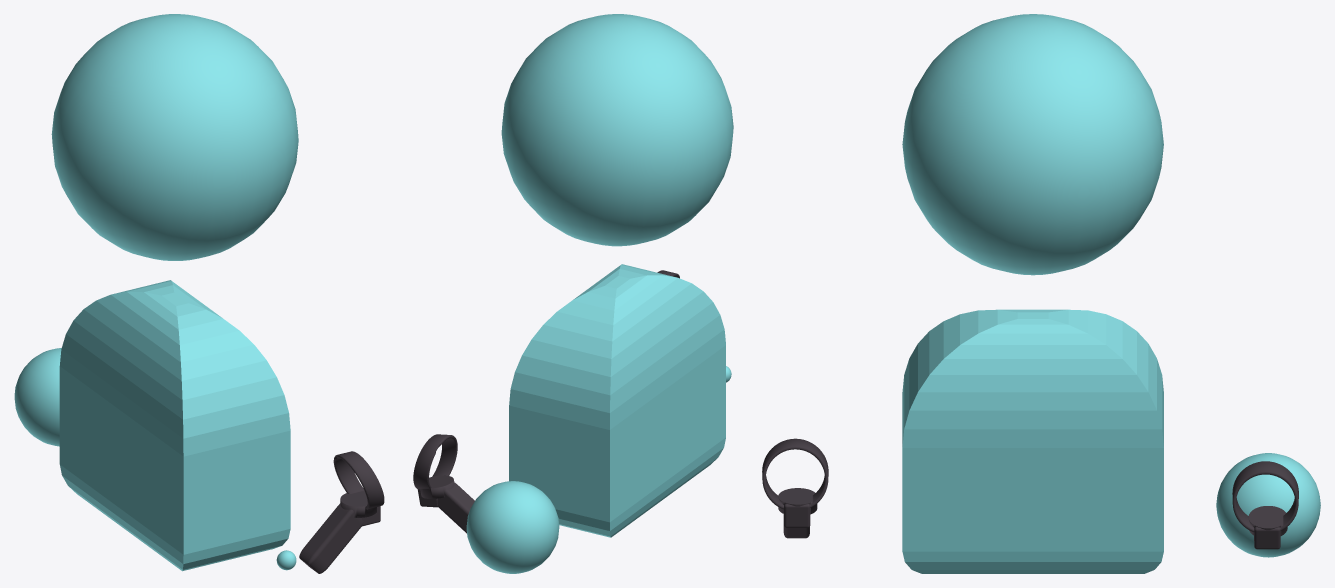
Rendered from dev_model.fbx.
3 renders of one model, left to right at view 1: azimuth 30°, elevation 25°; view 2: azimuth 150°, elevation 25°; view 3: azimuth 270°, elevation 25°, orthographic. The views are drawn at different scales.
Parts seen in each view (by area): view 1: torso, head, right_controller, leftHand; view 2: torso, head, leftHand, left_controller; view 3: torso, head, leftHand, left_controller, right_controller.
Boxes of the visible parts, <box> form: torso: <box>59,280,290,571</box>; head: <box>51,14,298,260</box>; right_controller: <box>299,451,384,573</box>; leftHand: <box>14,348,61,446</box>; torso: <box>509,264,725,537</box>; head: <box>501,14,733,246</box>; leftHand: <box>466,481,559,573</box>; left_controller: <box>413,434,474,533</box>; torso: <box>902,309,1163,573</box>; head: <box>902,14,1163,275</box>; leftHand: <box>1216,453,1320,557</box>; left_controller: <box>1232,461,1298,549</box>; right_controller: <box>762,438,828,538</box>.
Size of the model in its own units: 100 by 222 by 214.
